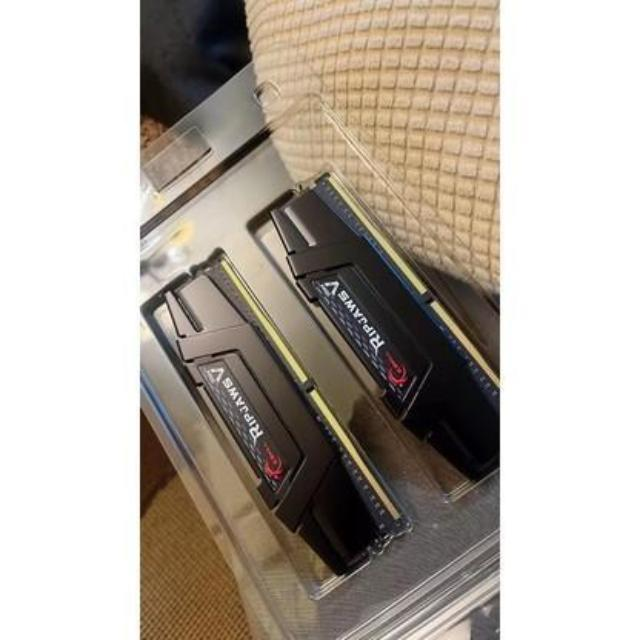RAM: (142, 245, 402, 592), (270, 162, 501, 494)
